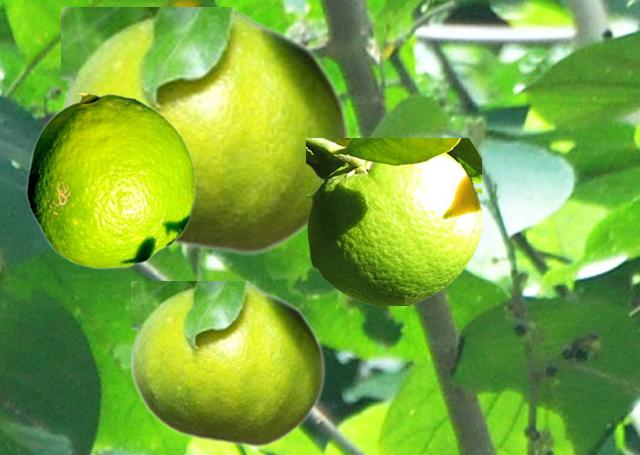dalandan: (61, 7, 350, 255), (131, 281, 325, 447), (26, 93, 195, 268), (306, 138, 480, 304)
